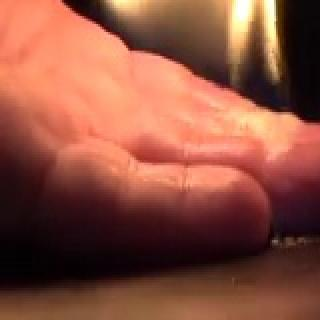fire: (165, 0, 271, 109)
